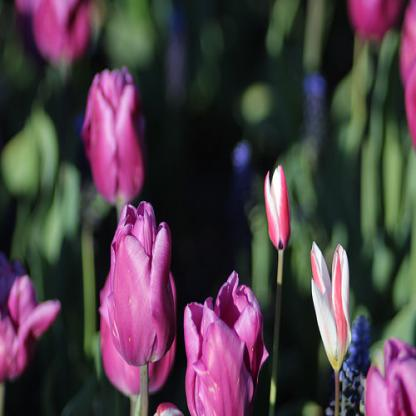TULIP: (29, 7, 403, 401)
